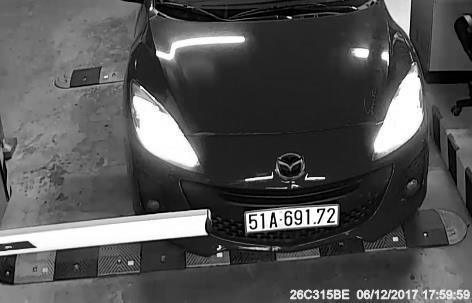License-plate: (245, 201, 345, 237)
